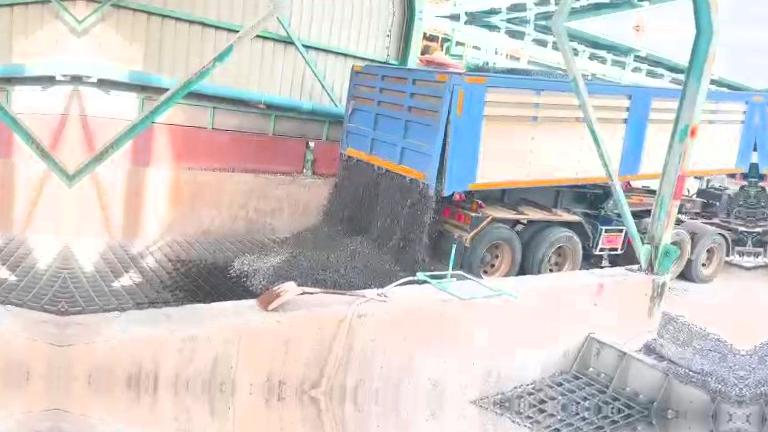gravel: (229, 158, 435, 292), (643, 313, 743, 403), (469, 65, 568, 79)
